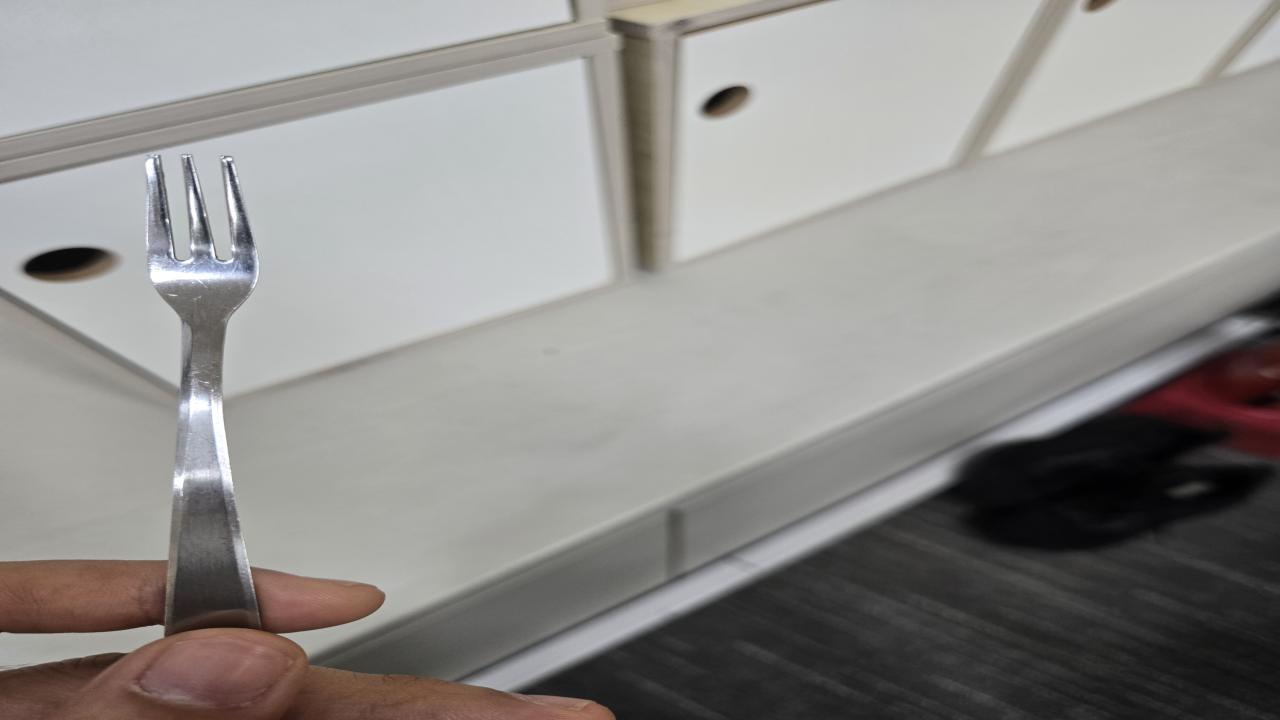fork: (145, 153, 269, 638)
